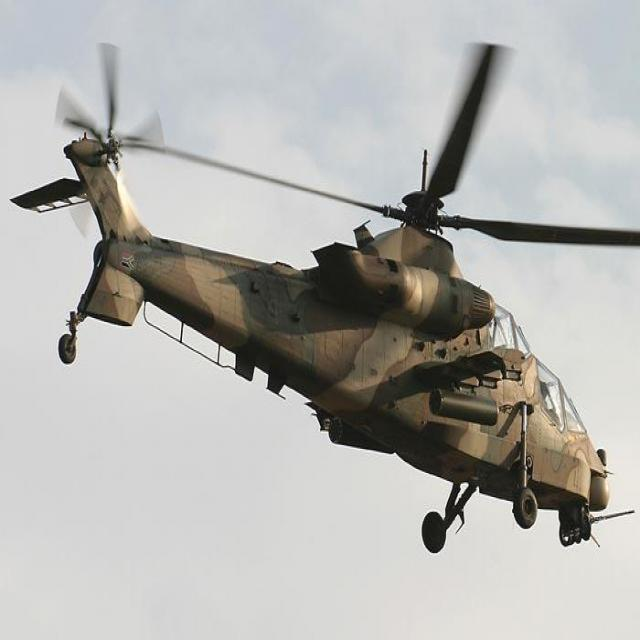MIL_HELO: (17, 0, 640, 585)
